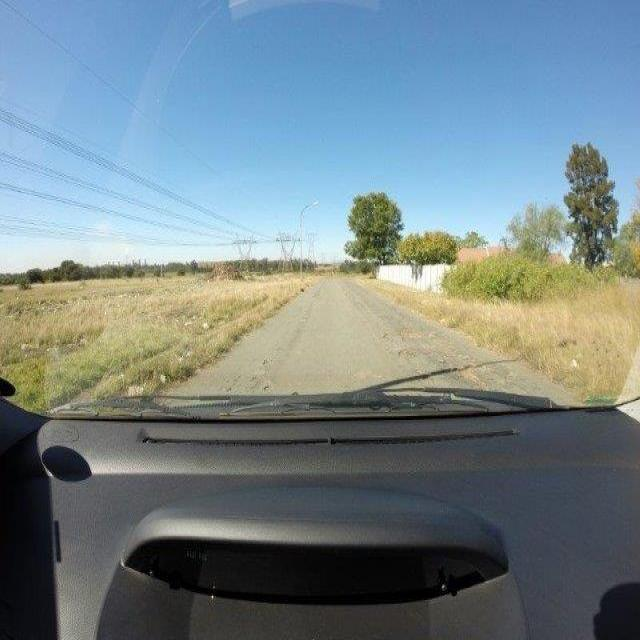jalan retak: (220, 372, 250, 394)
lubang: (436, 356, 500, 389), (397, 322, 425, 342), (394, 346, 422, 366), (414, 364, 437, 387), (502, 368, 524, 390), (418, 336, 438, 360), (260, 356, 274, 370), (262, 380, 272, 395), (381, 328, 390, 343), (250, 373, 259, 384)
